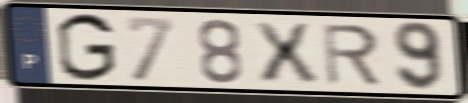7: (123, 15, 179, 83)
8: (196, 17, 244, 86)
9: (390, 19, 446, 95)
G: (54, 10, 118, 83)
R: (320, 22, 384, 87)
X: (248, 19, 323, 85)
